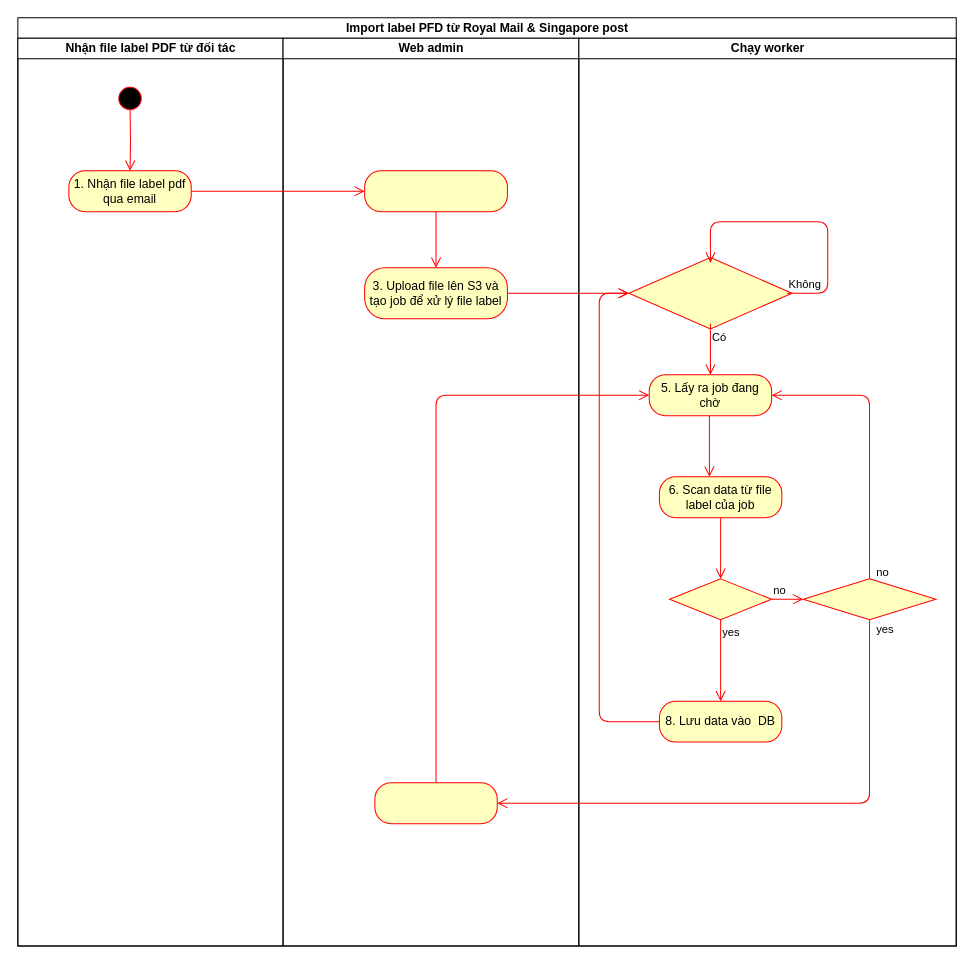
Some shapes in this 974 by 964 pixel diagram are drawn without their labels. Here are the shapes that lost their labels. From the top down, the centre of each, then its label:
the point at 435,191: 2. Import label file lên hệ thống
the point at 710,293: 4. Worker tìm xem có job đang chờ xử lý
the point at 720,599: 7. Thành công
the point at 869,599: 9. Lỗi qua 3 lần?
the point at 435,803: Retry thủ công trên web
